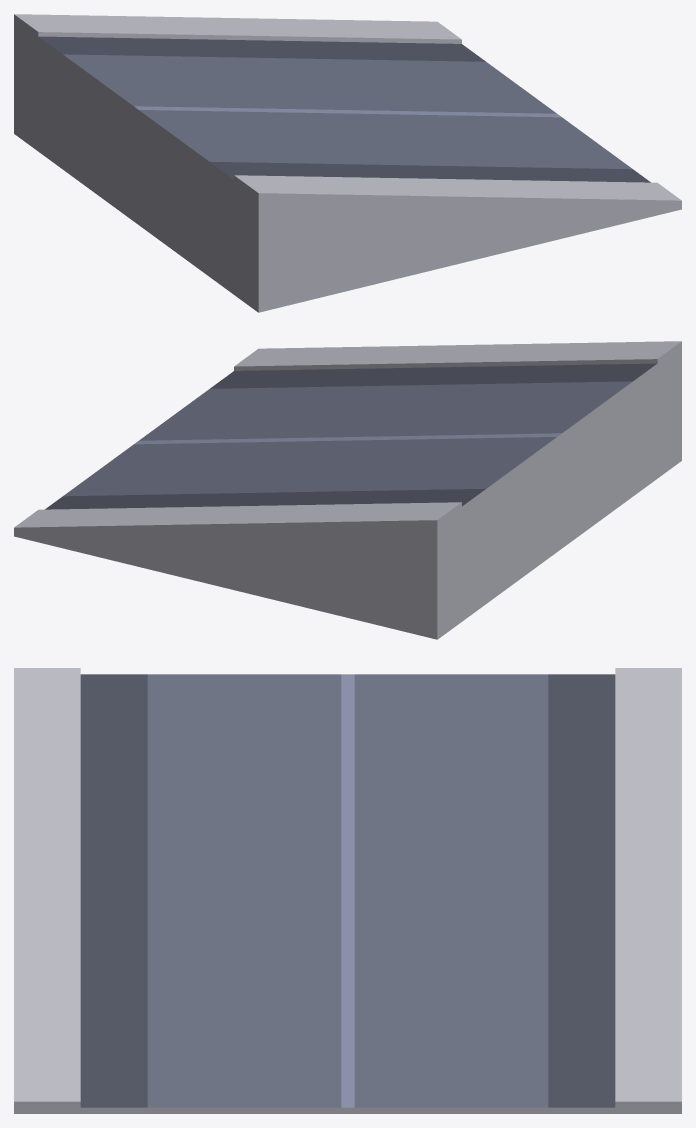
The model's file is Road Slant.glb.
3 renders of one model, top to bottom at view 1: azimuth 30°, elevation 25°; view 2: azimuth 150°, elevation 25°; view 3: azimuth 270°, elevation 25°, orthographic. The views are drawn at different scales.
Parts seen in each view (by area): view 1: road_slant; view 2: road_slant; view 3: road_slant.
Part boxes in pixels (x1=…): road_slant: x1=14, y1=14, x2=681, y2=312; road_slant: x1=14, y1=341, x2=681, y2=639; road_slant: x1=14, y1=668, x2=681, y2=1113.
Bounding box in the file's own units: 1 × 0.27 × 1.
